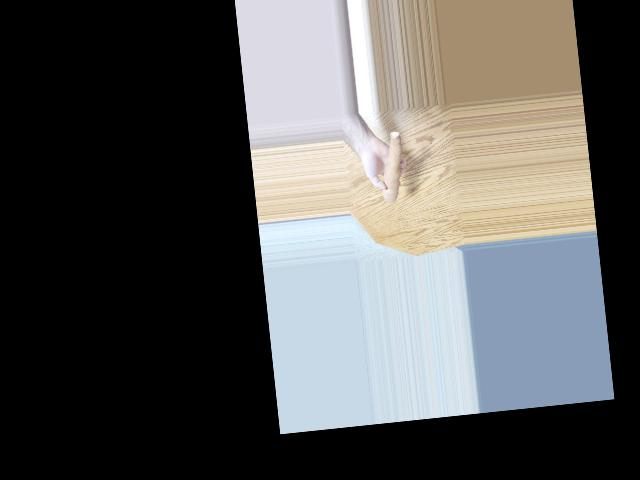sweet_potato: (379, 133, 408, 207)
